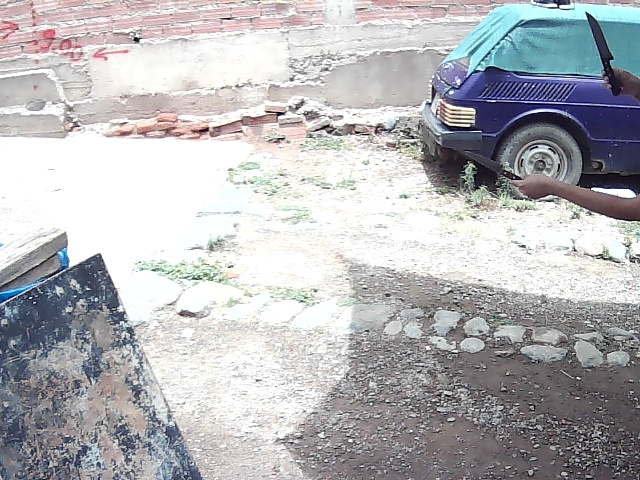cuchillo: (581, 15, 626, 98)
